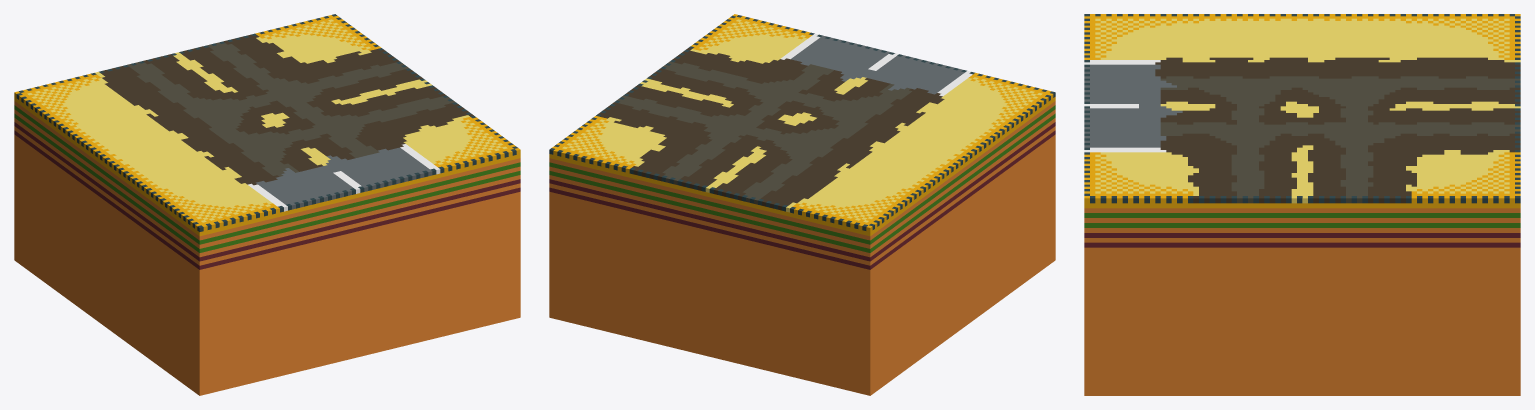
File: sand_road_transition_4_tile.obj
3 views of the same model, side by side, from view 1: azimuth 30°, elevation 25°; view 2: azimuth 150°, elevation 25°; view 3: azimuth 270°, elevation 25° (orthographic). The views are drawn at different scales.
Size of the model in its own units: 8 by 4 by 8.
Materials: 1 (1 with a texture image).
